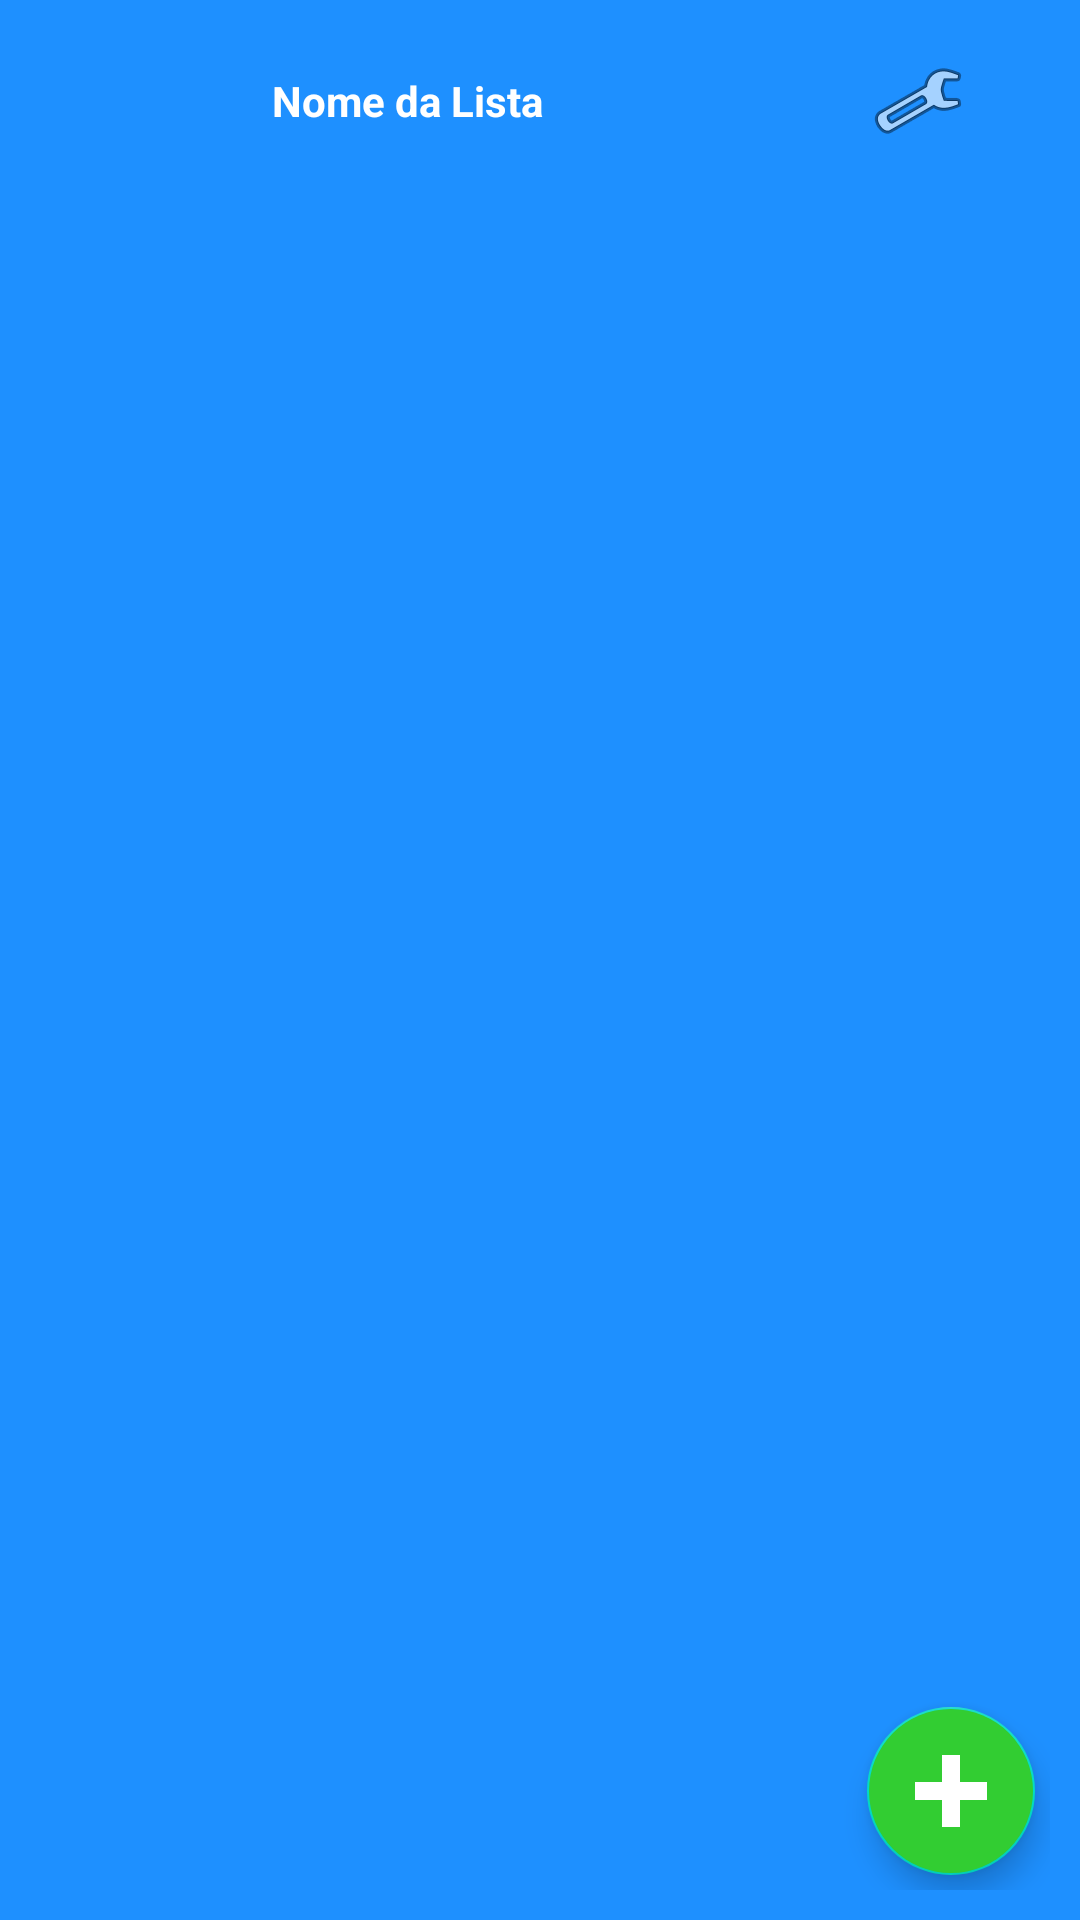

Locate icon controls on the screen. Image size 1080 × 1920, boxes as (x1, y1, x2, y2).
mais: (867, 1707, 1035, 1875)
manage: (875, 68, 961, 134)
